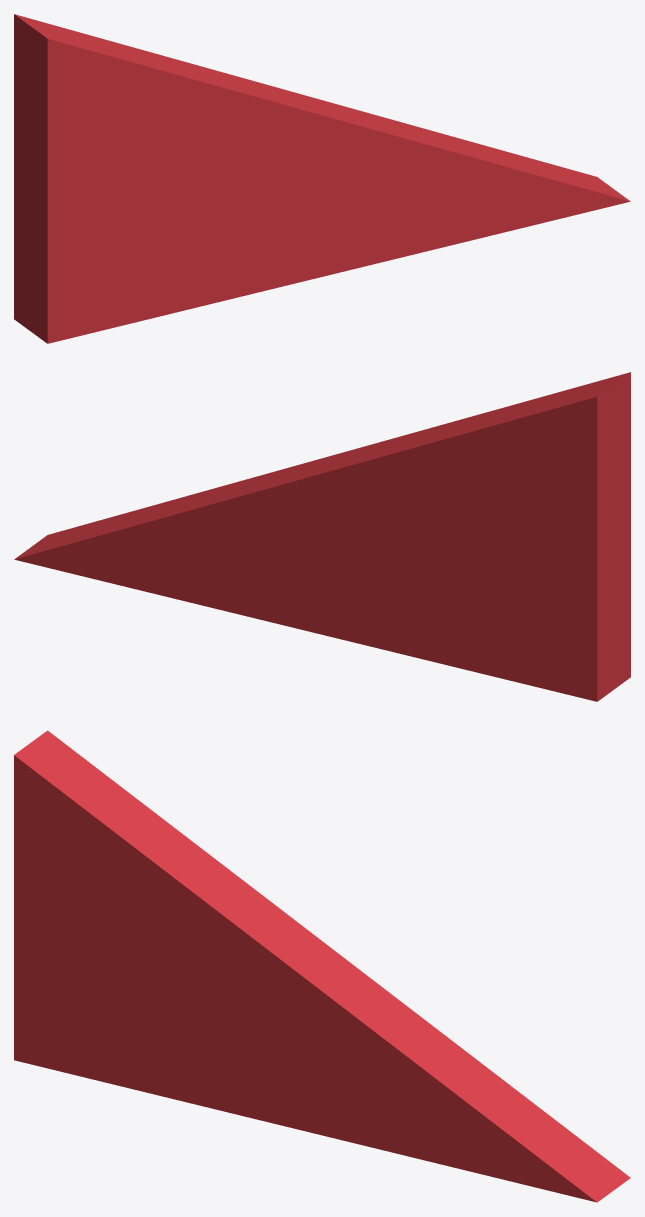
The model's file is roof_small_gable.glb.
3 renders of one model, top to bottom at view 1: azimuth 30°, elevation 25°; view 2: azimuth 150°, elevation 25°; view 3: azimuth 330°, elevation 25°, orthographic.
Parts seen in each view (by area): view 1: roof_small_gable; view 2: roof_small_gable; view 3: roof_small_gable.
Part boxes in pixels (x1,y1,x2,y2): roof_small_gable: (14,14,630,343); roof_small_gable: (14,372,630,701); roof_small_gable: (14,730,630,1202).
Size of the model in its own units: 1 by 0.5 by 0.1.
